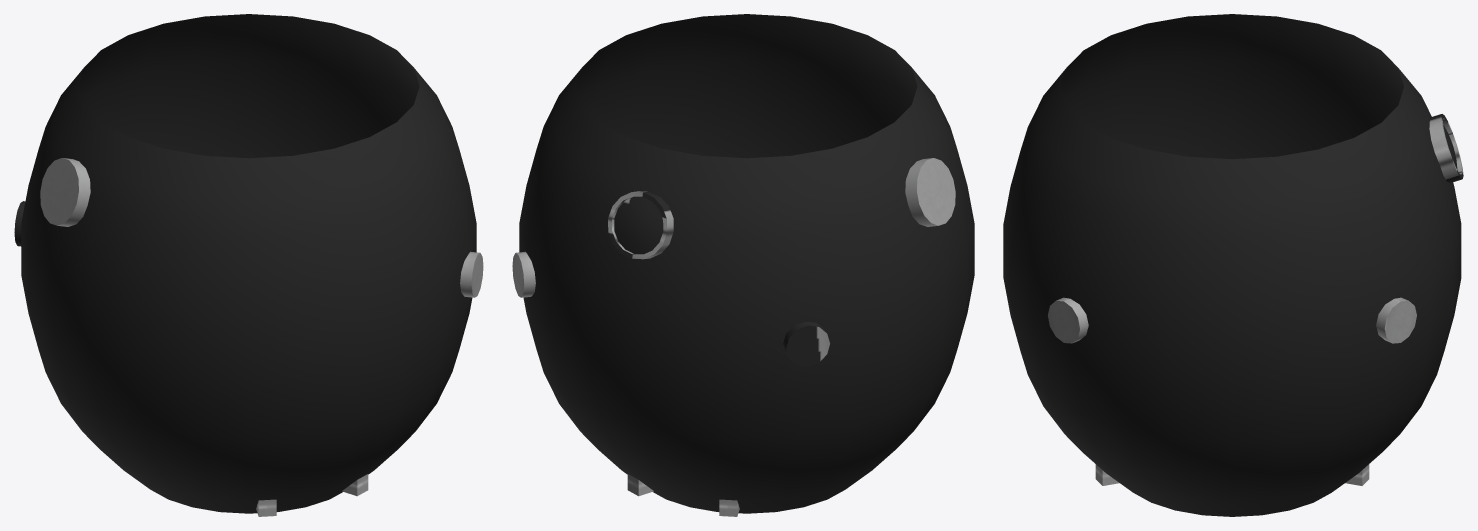
File: tantares_orbital_module_s1_2.obj
3 views of the same model, side by side, from view 1: azimuth 30°, elevation 25°; view 2: azimuth 150°, elevation 25°; view 3: azimuth 270°, elevation 25° (orthographic).
Visible parts, largest first — view 1: mesh; view 2: mesh, windows; view 3: mesh.
Boxes of the visible parts, x1,y1,x2,y2 form: mesh: (14, 14, 483, 516); mesh: (512, 14, 974, 516); windows: (614, 196, 663, 254); mesh: (1003, 14, 1463, 516).
Bounding box in the file's own units: 1.26 × 1.15 × 1.26.
